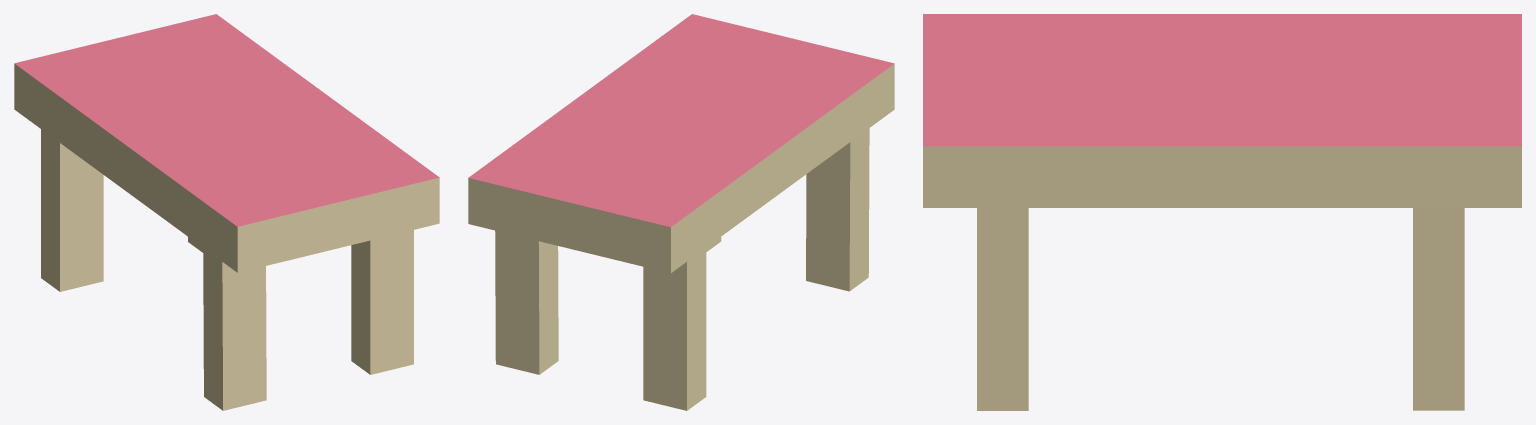
The model's file is F_Stool_02.fbx.
The picture shows the model from 3 angles, left to right: view 1: azimuth 30°, elevation 25°; view 2: azimuth 150°, elevation 25°; view 3: azimuth 270°, elevation 25°; orthographic projection. The views are drawn at different scales.
Visible parts, largest first — view 1: F_Stool_02; view 2: F_Stool_02; view 3: F_Stool_02.
Part boxes in pixels (x1,y1,x2,y2): F_Stool_02: (14, 14, 439, 410); F_Stool_02: (468, 14, 894, 410); F_Stool_02: (923, 14, 1521, 410).
Bounding box in the file's own units: 67.49 × 63.87 × 129.
